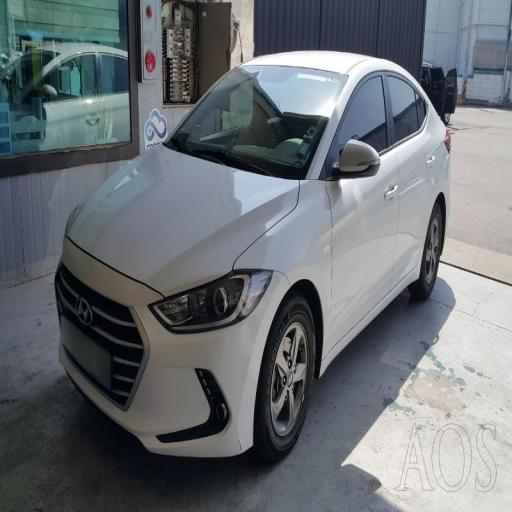normal: (35, 36, 474, 484)
